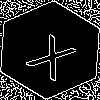X: (25, 25, 85, 82)
